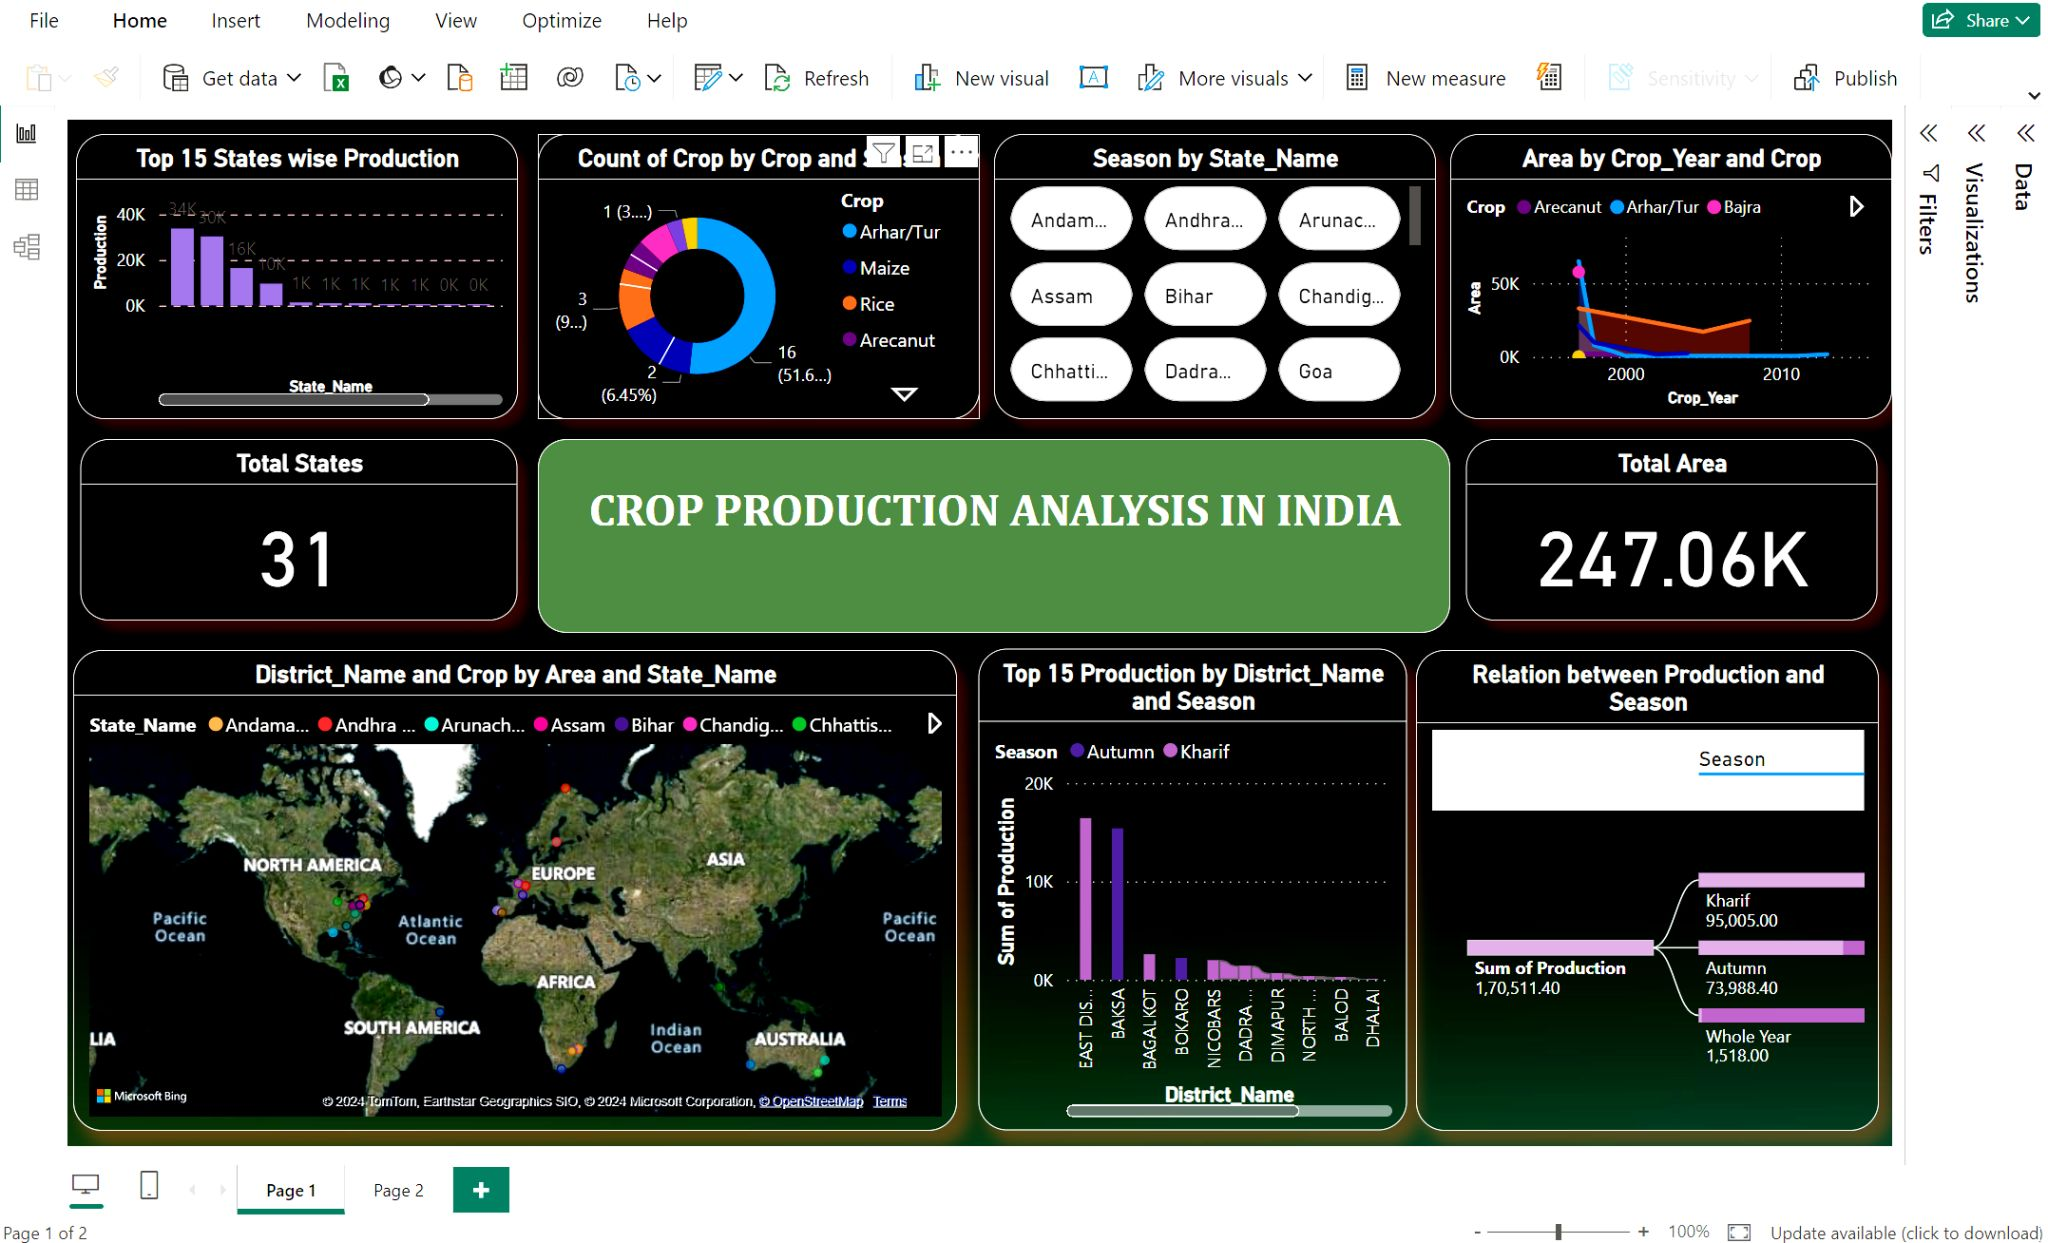

The dashboard page shown, as its layout file describes it:
{"tool":"powerbi","page":{"name":"Page 1","canvas":[1280,720],"ordinal":0},"visuals":[{"type":"clusteredColumnChart","title":"Top 15 States wise Production","fields":{"Y":["Sum(crop_production_data.Production)"],"Category":["crop_production_data.State_Name"]},"box":[5.7,10,310,200],"z":0},{"type":"areaChart","fields":{"Category":["crop_production_data.Crop_Year"],"Y":["Sum(crop_production_data.Area)"],"Series":["crop_production_data.Crop"]},"box":[970,10,310,200],"z":1000},{"type":"donutChart","fields":{"Y":["CountNonNull(crop_production_data.Crop)"],"Series":["crop_production_data.Season"],"Category":["crop_production_data.Crop"]},"box":[330,10,310,200],"z":2000},{"type":"advancedSlicerVisual","title":" Season by State_Name","fields":{"Values":["crop_production_data.State_Name"]},"box":[650,10,310,200],"z":3000},{"type":"map","title":"District_Name and Crop by Area and State_Name","fields":{"Category":["crop_production_data.Area"],"Series":["crop_production_data.State_Name"],"Y":["Min(crop_production_data.District_Name)"],"X":["Min(crop_production_data.Crop)"]},"box":[3.8,371.8,620.1,337.4],"z":4000},{"type":"ribbonChart","title":"Top 15 Production by District_Name and Season","fields":{"Category":["crop_production_data.District_Name"],"Y":["Sum(crop_production_data.Production)"],"Series":["crop_production_data.Season"]},"box":[639.2,370.5,300.5,338.7],"z":5000},{"type":"decompositionTreeVisual","title":"Relation between Production and Season","fields":{"Analyze":["Sum(crop_production_data.Production)"],"ExplainBy":["crop_production_data.Season"]},"box":[946,371.8,324.7,337.4],"z":6000},{"type":"card","title":"Total States","fields":{"Values":["Count(crop_production_data.State_Name)"]},"box":[8.8,223.8,307.5,127.5],"z":7000},{"type":"card","title":"Total Area","fields":{"Values":["Sum(crop_production_data.Area)"]},"box":[981.4,224.3,288.6,127.1],"z":8000},{"type":"textbox","box":[329.8,224.1,640.4,136.2],"z":9000}]}

Visuals, with their boxes on the page's 1280x720 design canvas (x1, y1, x2, y2). These are canvas units, not pixel positions in the 2048x1243 screenshot, which may show the page scaled, cropped or inside an application window:
"Top 15 States wise Production" clusteredColumnChart: detection(6, 10, 316, 210)
areaChart - crop_production_data.Crop_Year x Sum(crop_production_data.Area): detection(970, 10, 1280, 210)
donutChart - CountNonNull(crop_production_data.Crop) x crop_production_data.Season: detection(330, 10, 640, 210)
" Season by State_Name" advancedSlicerVisual: detection(650, 10, 960, 210)
"District_Name and Crop by Area and State_Name" map: detection(4, 372, 624, 709)
"Top 15 Production by District_Name and Season" ribbonChart: detection(639, 370, 940, 709)
"Relation between Production and Season" decompositionTreeVisual: detection(946, 372, 1271, 709)
"Total States" card: detection(9, 224, 316, 351)
"Total Area" card: detection(981, 224, 1270, 351)
textbox: detection(330, 224, 970, 360)
